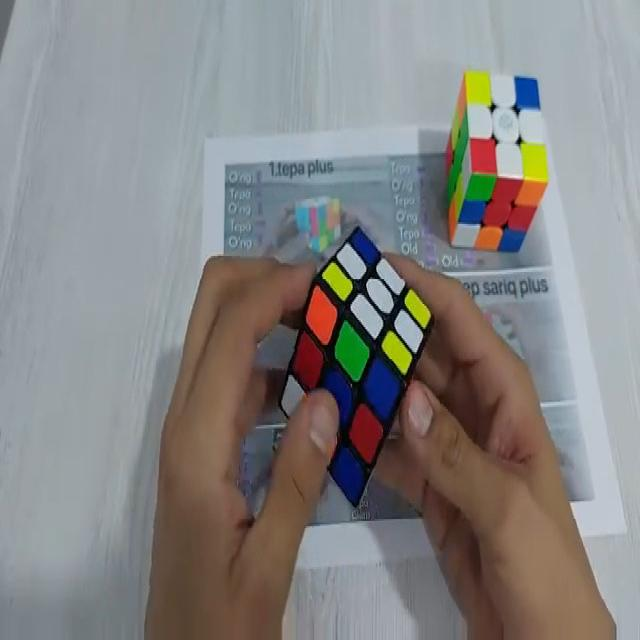Rub: (278, 226, 435, 509), (446, 68, 549, 254)
